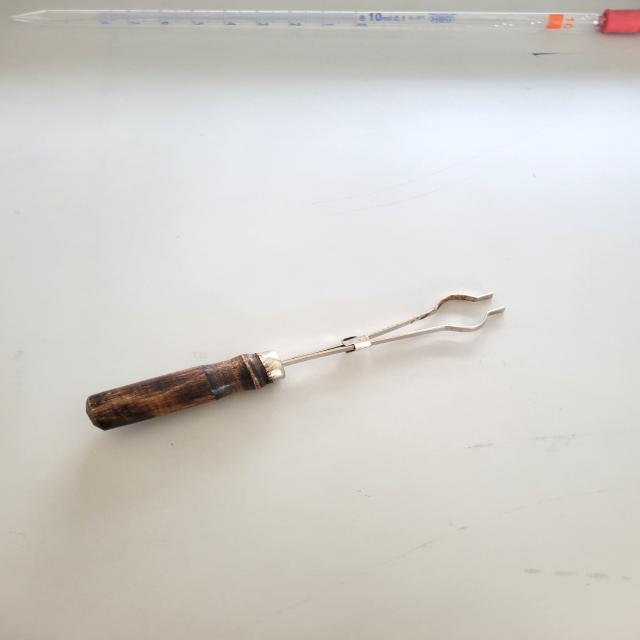TestTube_Holder: (72, 276, 525, 446)
